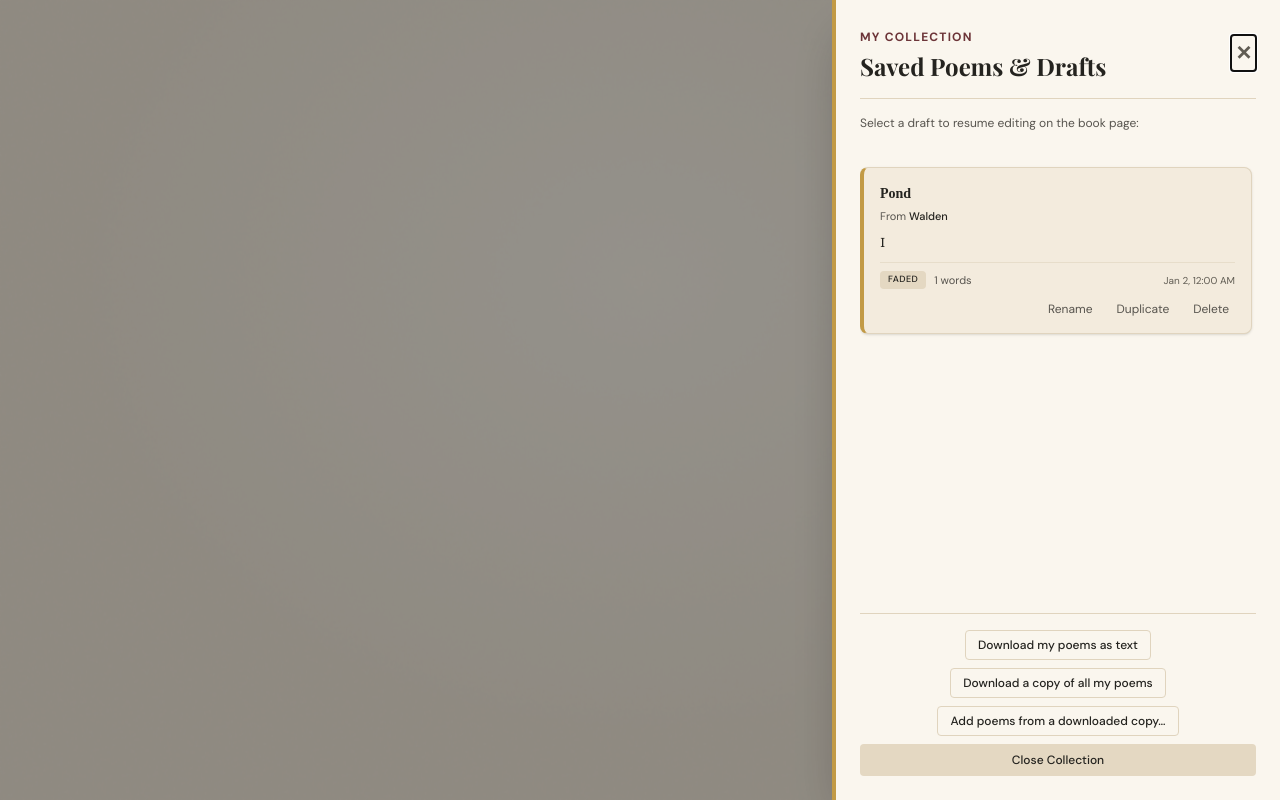
Test: DraftsDrawer keyboard access › deletes only when confirmed, then keeps the reader inside the collection
Click the button with aria-label "Delete draft Pond" at (1211,309), box 1183,297 -> 1239,321
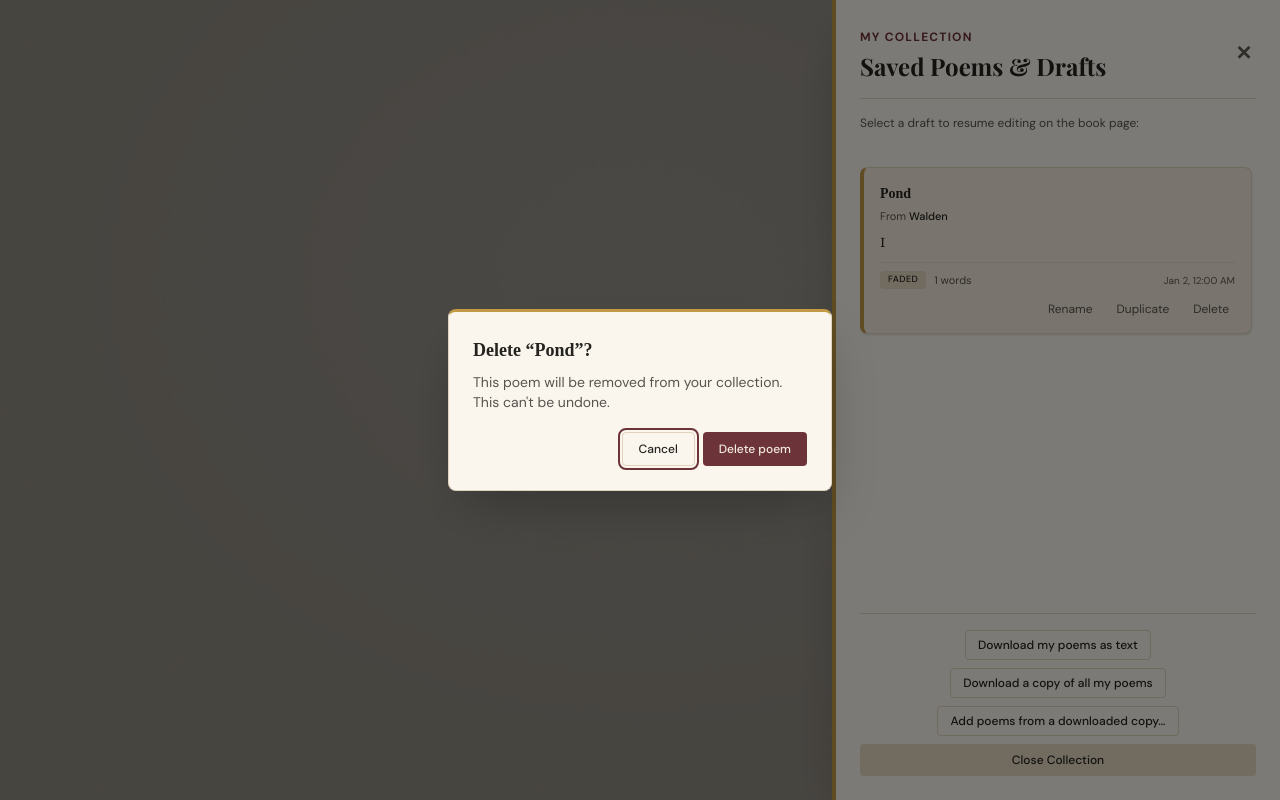
Click the button "Delete poem" at (755,449), box 703,432 -> 807,466
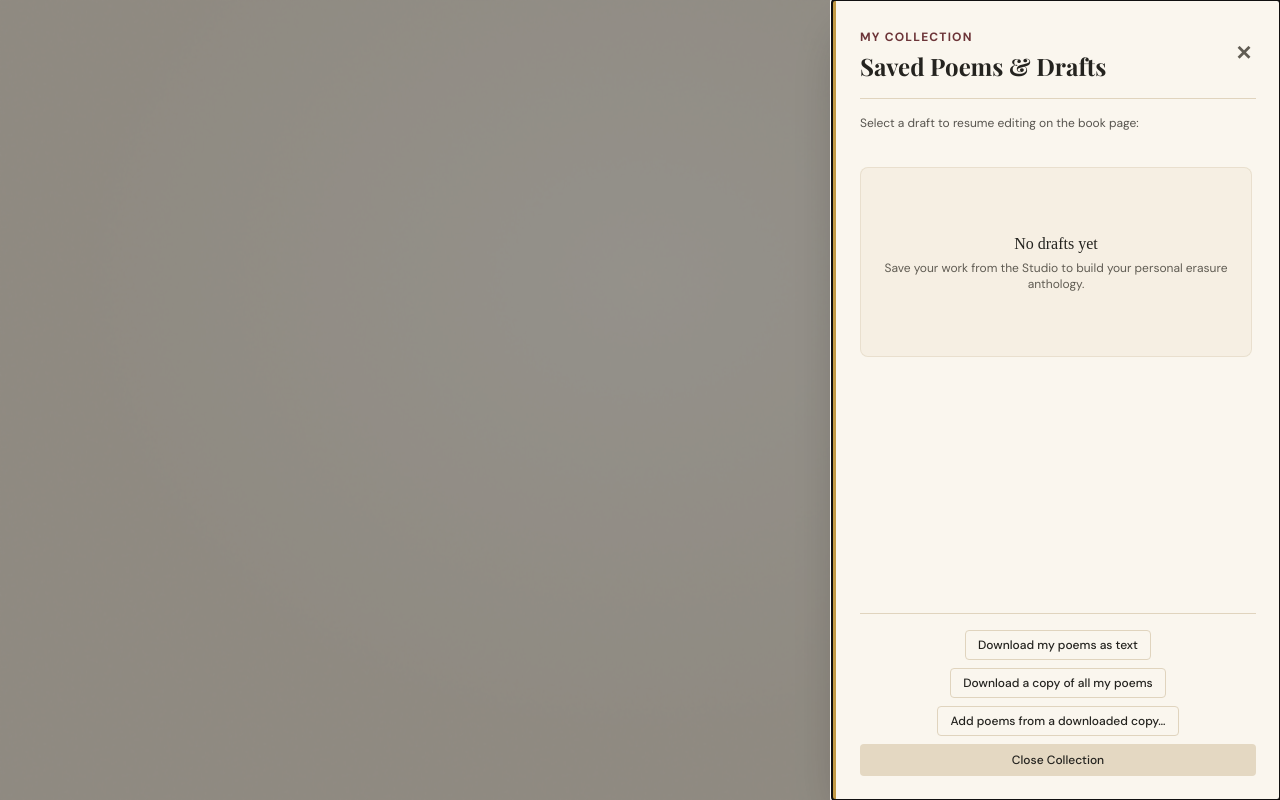
Check: the dialog is gone
Check: no list items are shown
Check: the text "No drafts yet" is shown, box 1014,235 -> 1098,252
